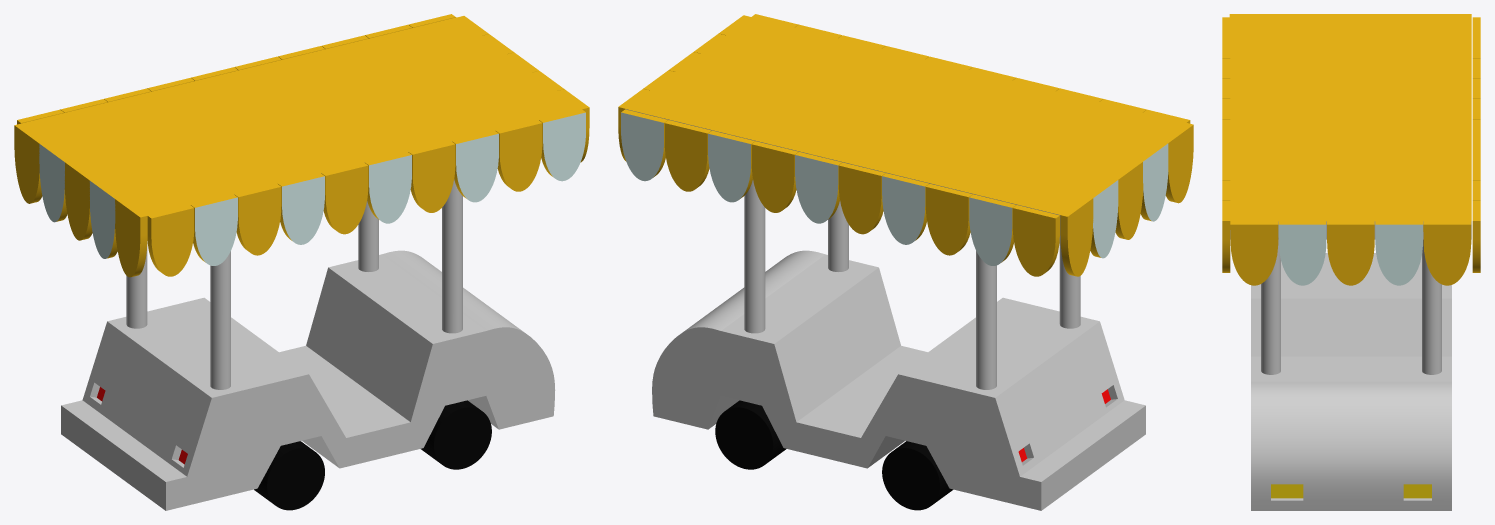
File: Golf Cart.gltf
3 renders of one model, left to right at view 1: azimuth 30°, elevation 25°; view 2: azimuth 150°, elevation 25°; view 3: azimuth 270°, elevation 25°, orthographic. The views are drawn at different scales.
Visible parts, largest first — view 1: Part 1, Part 37, Part 35, Part 3, Part 7, Part 12, Part 5, Part 6, Part 8, Part 9, Part 10, Part 11 (+6 smaller); view 2: Part 1, Part 36, Part 34, Part 18, Part 21, Part 23, Part 25, Part 27, Part 22, Part 24, Part 28, Part 20 (+6 smaller); view 3: Part 1, Part 13, Part 17, Part 14, Part 15, Part 16, Part 12, Part 28.
Boxes of the visible parts, x1,y1,x2,y2 form: Part 1: (22,17,582,510); Part 37: (421,400,491,469); Part 35: (254,441,324,510); Part 3: (147,205,194,276); Part 7: (321,162,368,234); Part 12: (539,109,585,181); Part 5: (234,183,281,255); Part 6: (278,173,324,244); Part 8: (365,152,411,223); Part 9: (408,141,455,212); Part 10: (452,130,498,202); Part 11: (495,120,542,191); Part 1: (625,17,1185,510); Part 36: (715,400,786,469); Part 34: (882,441,953,510); Part 18: (1012,205,1059,276); Part 21: (925,184,972,255); Part 23: (838,162,885,234); Part 25: (751,141,798,212); Part 27: (664,120,711,191); Part 22: (882,173,928,244); Part 24: (795,152,842,223); Part 28: (621,109,667,181); Part 20: (969,194,1015,265); Part 1: (1230,17,1471,510); Part 13: (1230,221,1278,285); Part 17: (1423,221,1471,285); Part 14: (1278,221,1326,285); Part 15: (1327,221,1374,285); Part 16: (1375,221,1422,285); Part 12: (1222,201,1230,272); Part 28: (1472,201,1480,272).
Size of the model in its own units: 0.1575 by 0.1141 by 0.0816.
